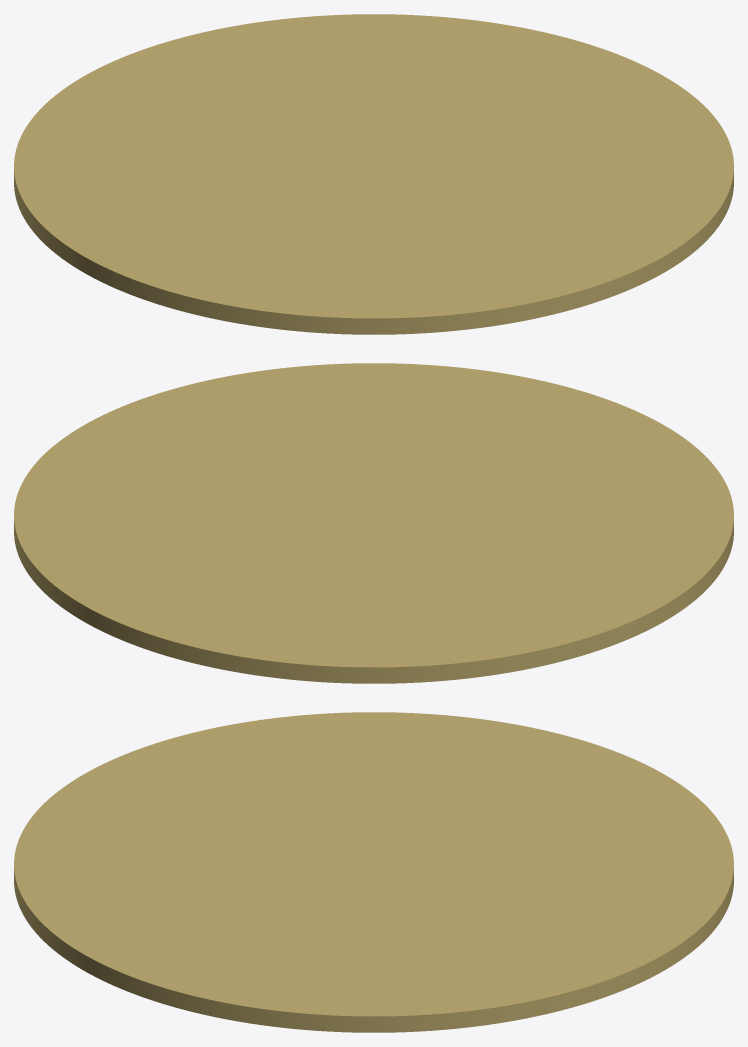
File: button_base.FBX
3 views of the same model, one above another, from view 1: azimuth 30°, elevation 25°; view 2: azimuth 150°, elevation 25°; view 3: azimuth 270°, elevation 25° (orthographic).
Visible parts, largest first — view 1: Cylinder001; view 2: Cylinder001; view 3: Cylinder001.
Boxes of the visible parts, <box> form: Cylinder001: <box>14,14,733,334</box>; Cylinder001: <box>14,363,733,683</box>; Cylinder001: <box>14,712,733,1032</box>.
Size of the model in its own units: 78.74 by 1.97 by 78.74.
